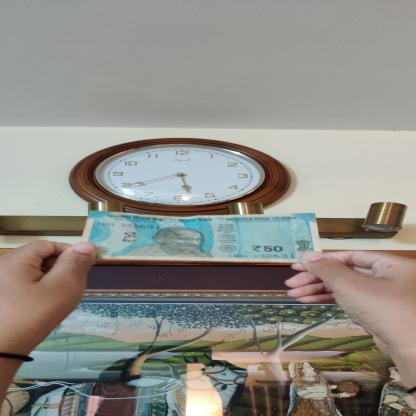New50Front: (75, 209, 324, 263)
